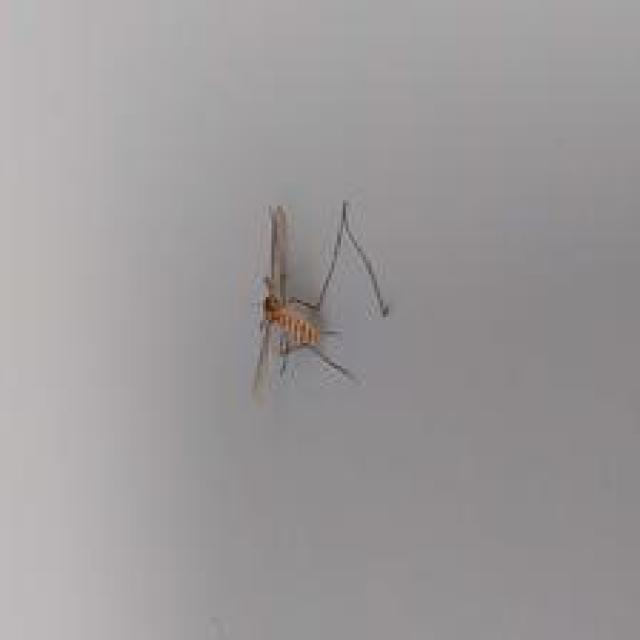Culex: (250, 198, 390, 398)
